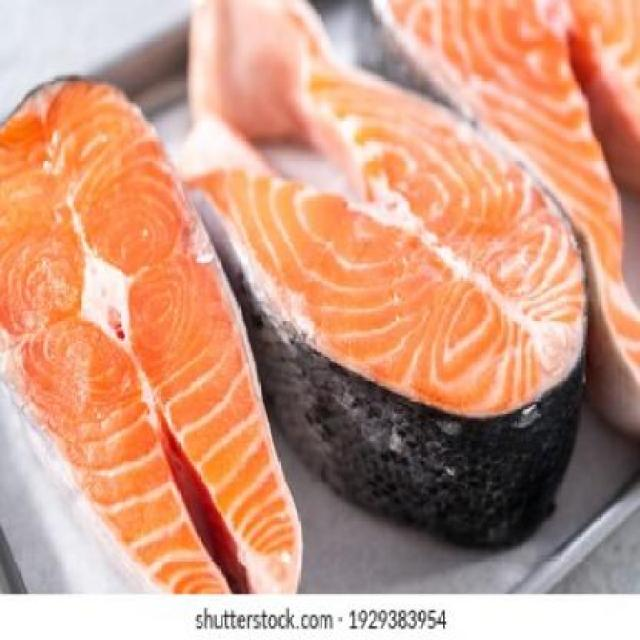salmon: (152, 2, 594, 573), (2, 61, 308, 598), (349, 2, 640, 436)
